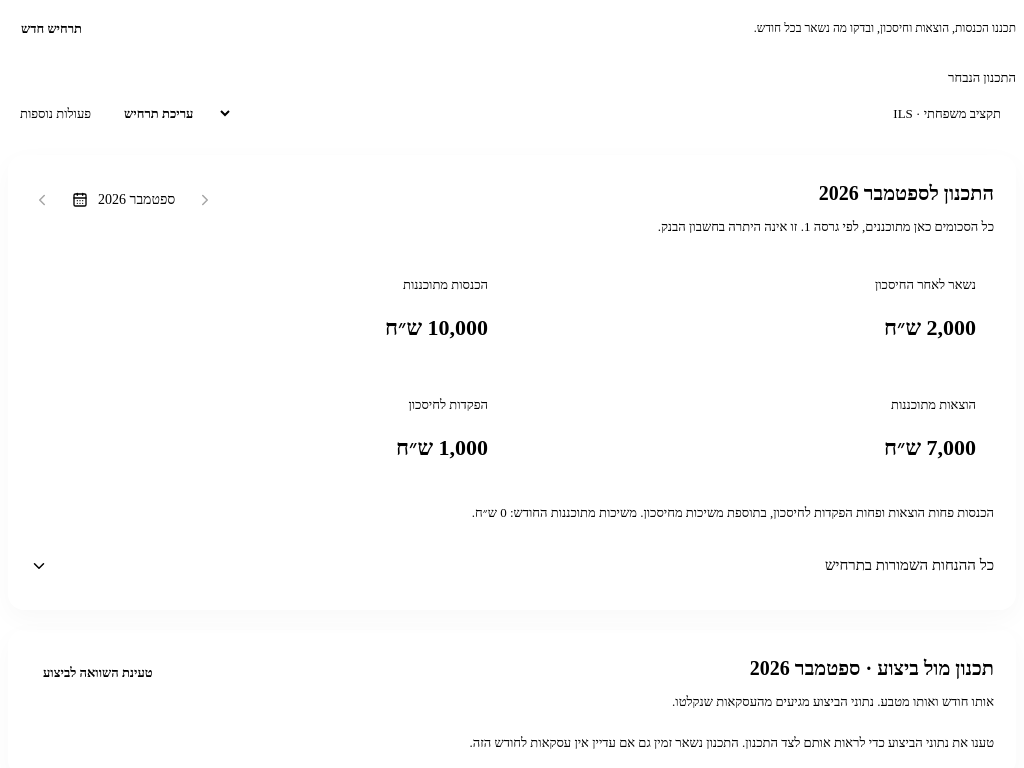
Planning feature presentation › rejects actuals from a newer revision instead of mixing them with the displayed plan
The width and height of the screenshot is (1024, 768).
Click the button "טעינת השוואה לביצוע": click(98, 673) [30,652,166,694]
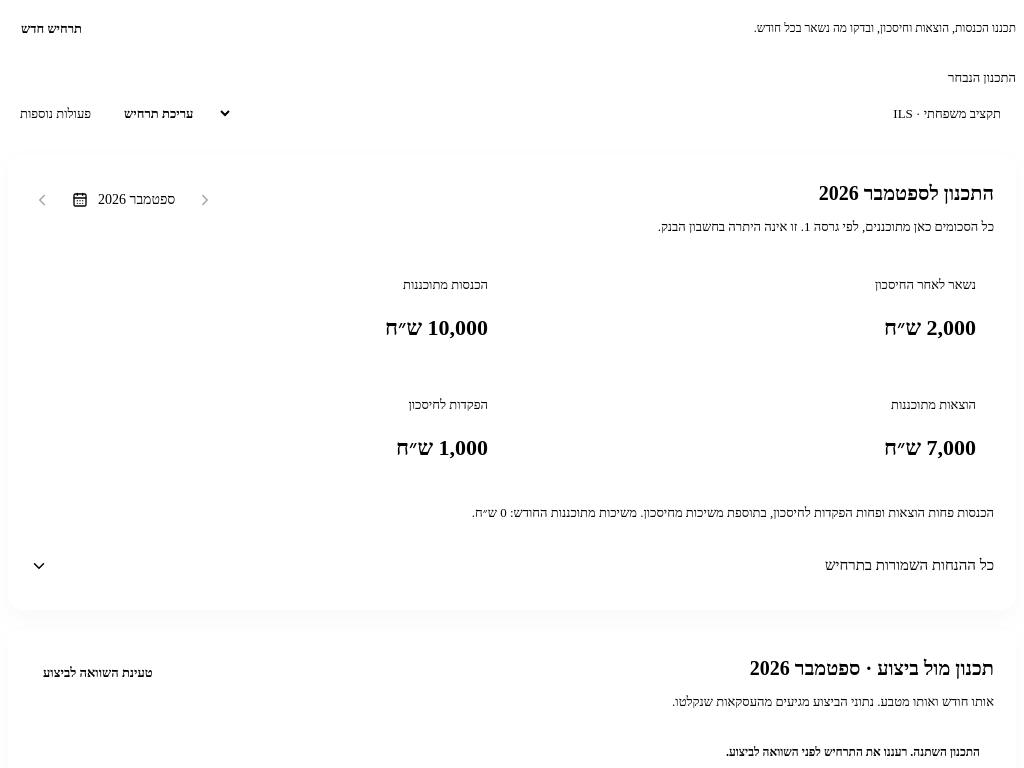
Result: the text "התכנון השתנה. רעננו את התרחיש לפני השוואה לביצוע." is shown at [726,745,980,759]
